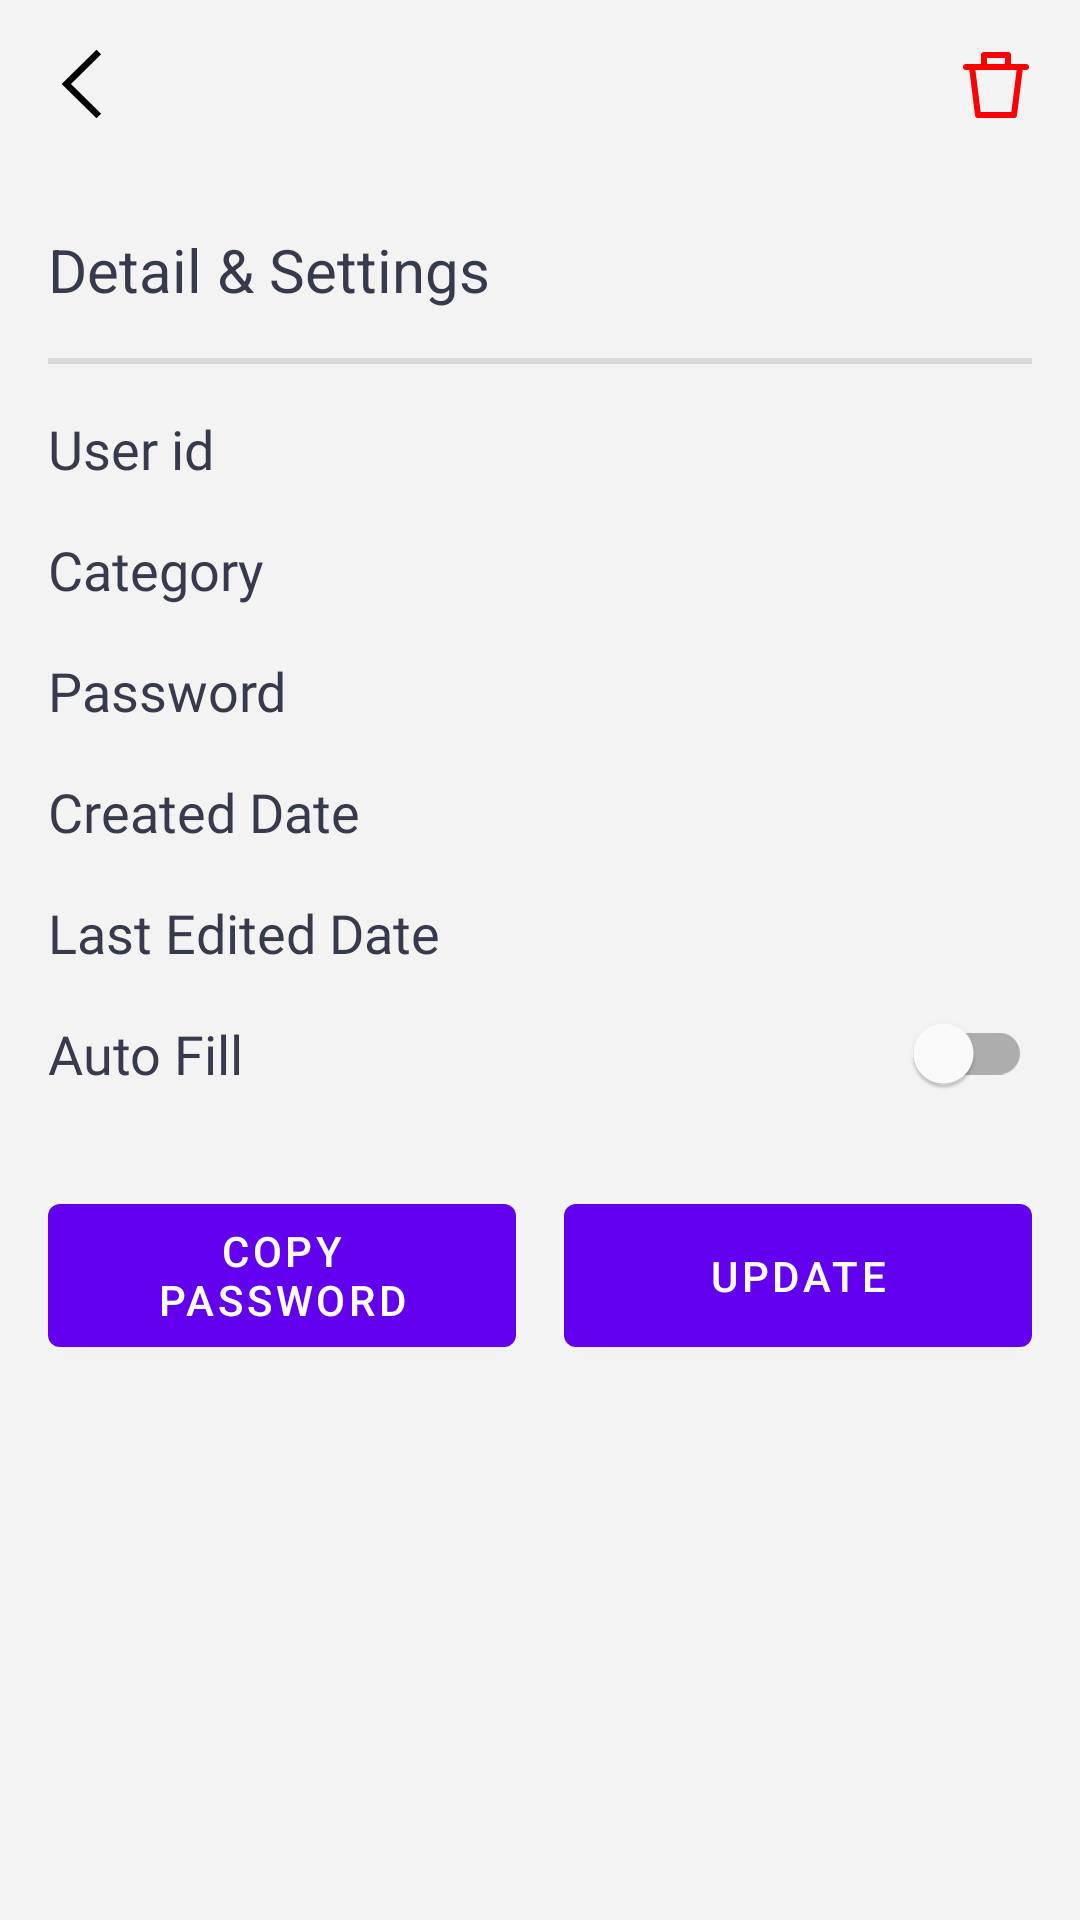

Screen size 1080px×1920px. Icon name, then its center in pixels as (x,y):
back: (81,84)
delete: (996,85)
